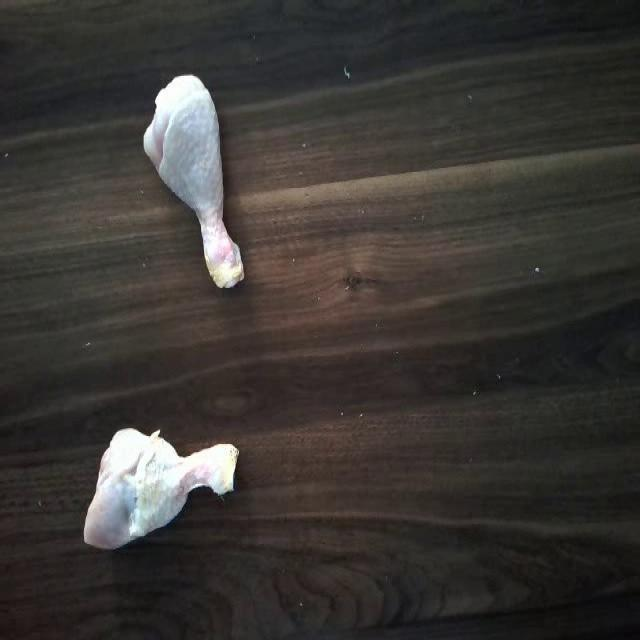leg: (146, 75, 249, 292), (69, 423, 243, 548)
